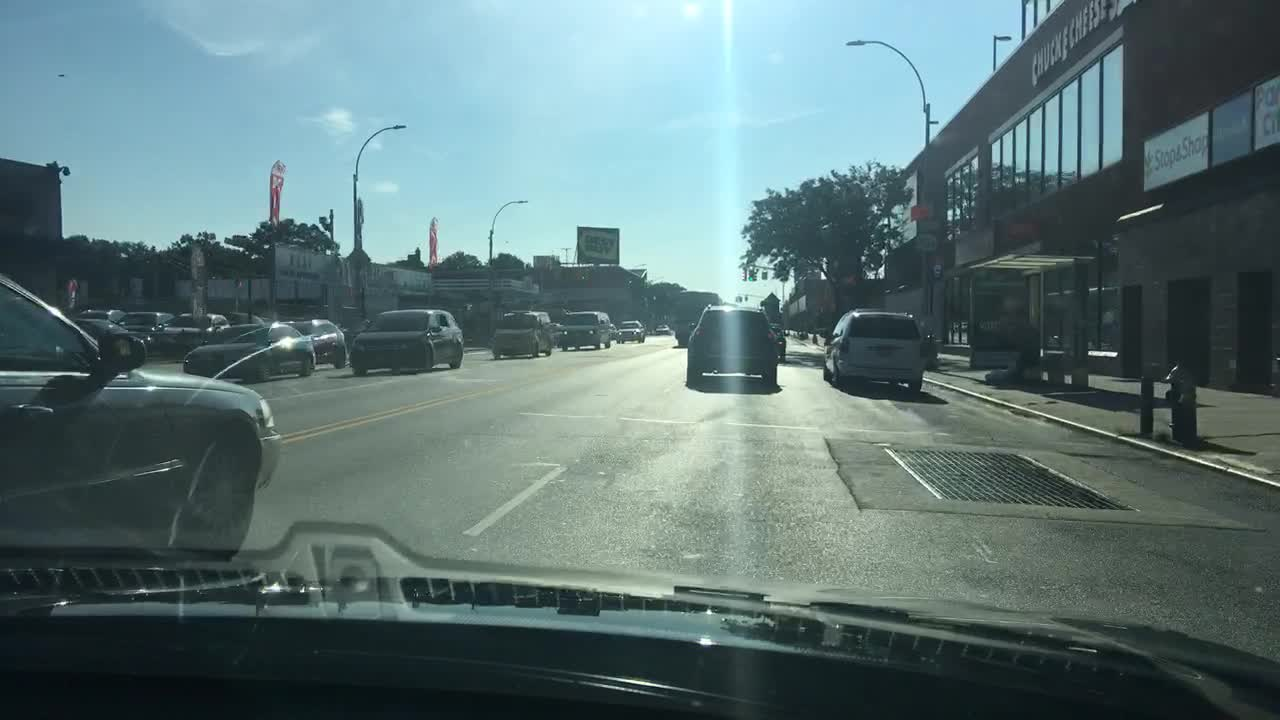car: (0, 272, 282, 560), (823, 306, 925, 394), (181, 320, 317, 381), (684, 304, 779, 387), (349, 307, 465, 374), (283, 316, 346, 370), (490, 313, 556, 359), (153, 310, 231, 345), (76, 318, 154, 352), (558, 310, 617, 353), (119, 311, 173, 346), (518, 311, 555, 337), (77, 306, 126, 325), (767, 323, 787, 365), (224, 308, 263, 328), (616, 320, 647, 343), (543, 319, 563, 345), (605, 321, 621, 342), (654, 323, 671, 337)
person: (1008, 310, 1043, 381)
traffic light: (748, 267, 758, 283), (733, 293, 744, 307), (740, 267, 750, 282), (742, 293, 751, 304)
traffic sign: (917, 218, 942, 235), (916, 235, 939, 253), (908, 203, 929, 221), (760, 269, 769, 282)
truck: (671, 289, 722, 347)
